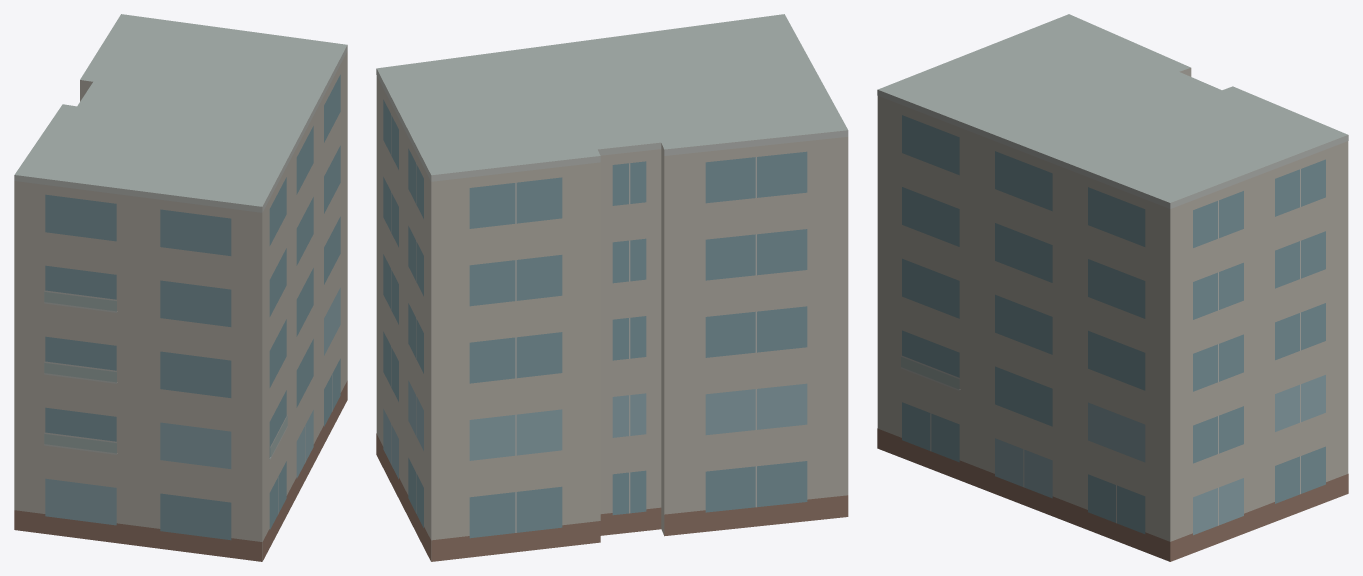
File: survey-upis-33013885.glb
The picture shows the model from 3 angles, left to right: view 1: azimuth 30°, elevation 25°; view 2: azimuth 150°, elevation 25°; view 3: azimuth 270°, elevation 25°; orthographic projection. The views are drawn at different scales.
Visible parts, largest first — view 1: survey-upis-33013885.tmp; view 2: survey-upis-33013885.tmp; view 3: survey-upis-33013885.tmp.
Boxes of the visible parts, x1,y1,x2,y2 form: survey-upis-33013885.tmp: (14, 14, 347, 561); survey-upis-33013885.tmp: (376, 14, 848, 561); survey-upis-33013885.tmp: (877, 14, 1348, 561).
Bounding box in the file's own units: 16.39 × 14.5 × 17.25.
